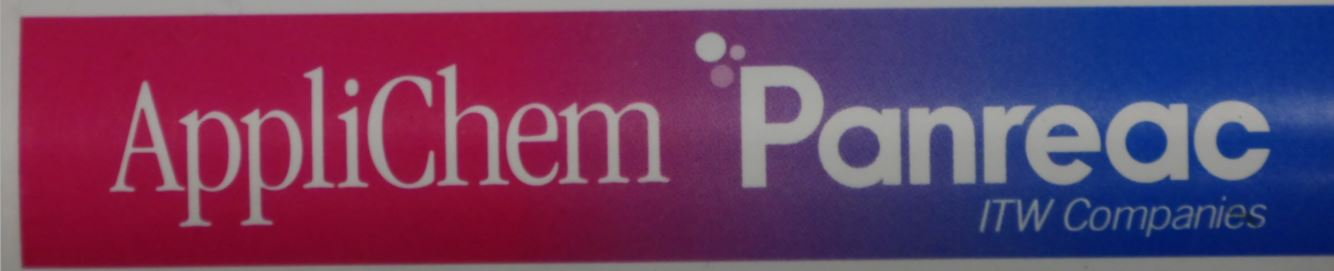ApplichemPanreac: (107, 29, 1277, 242)
